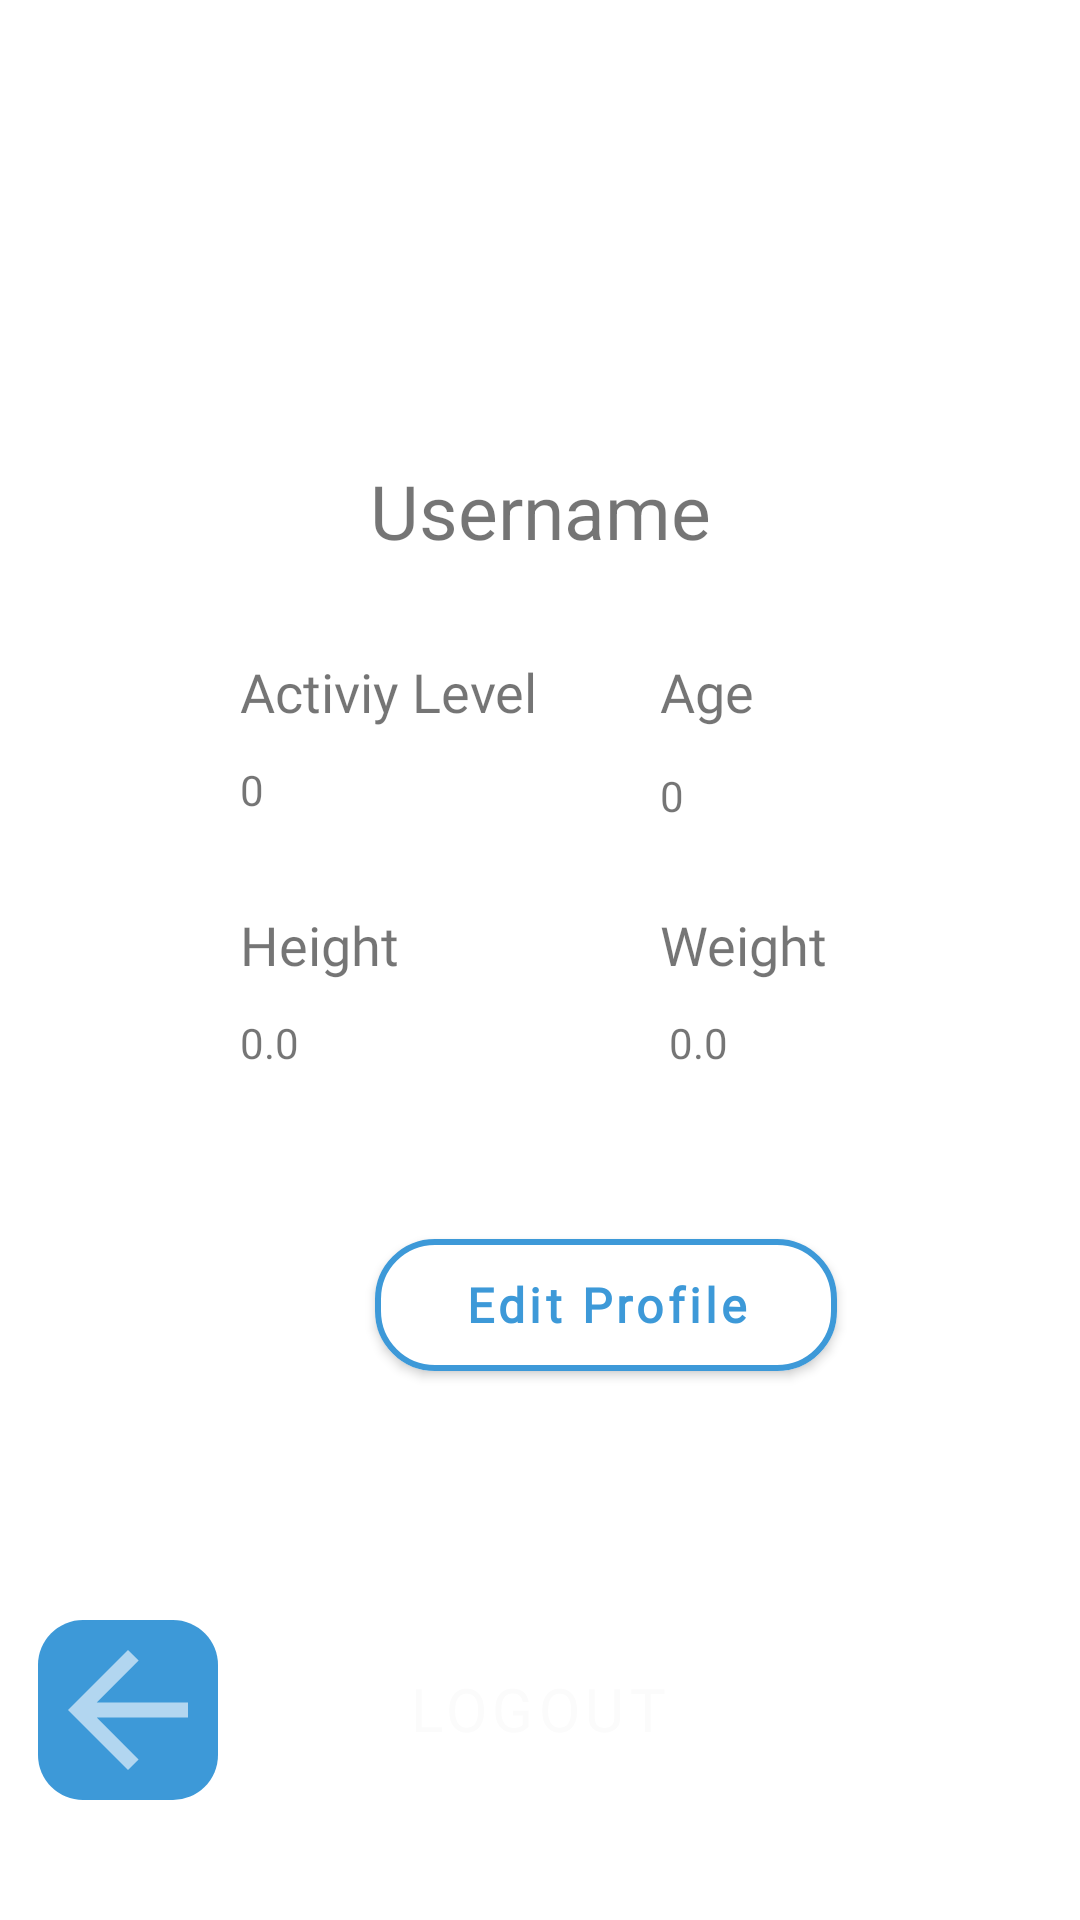

Where icons sit on this 1080*1920 app screen, as detection(x1, y1, x2, y2):
Back Button Description: detection(38, 1620, 218, 1800)
